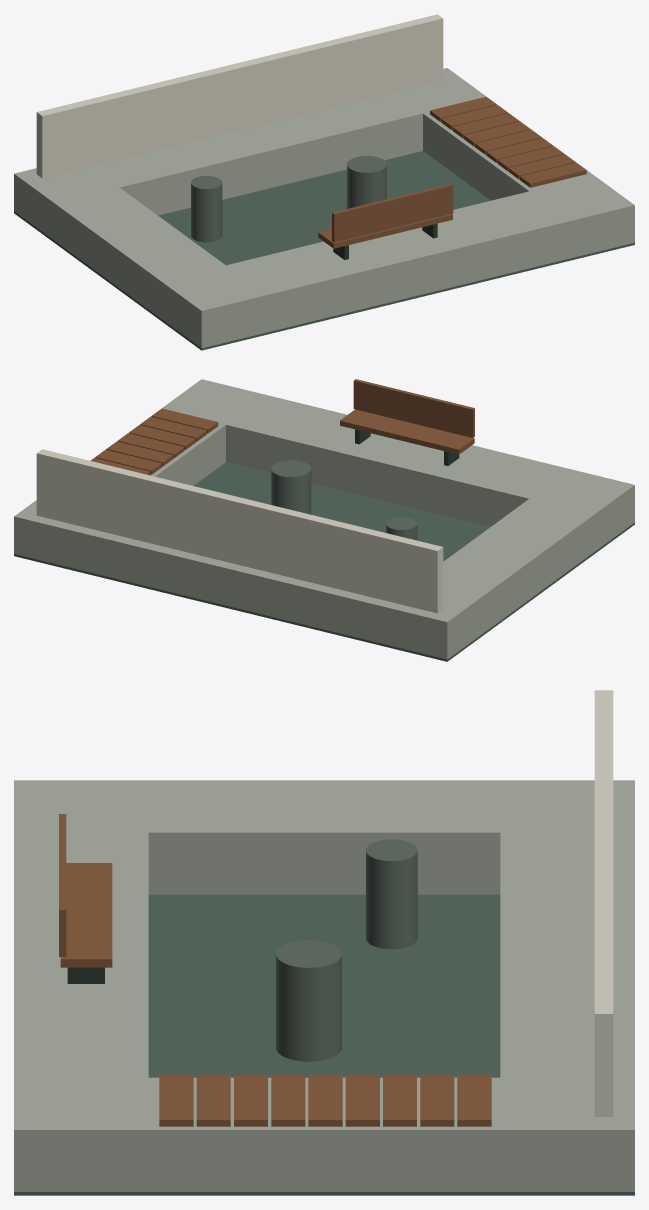
File: binding-example.glb
3 views of the same model, one above another, from view 1: azimuth 30°, elevation 25°; view 2: azimuth 150°, elevation 25°; view 3: azimuth 270°, elevation 25° (orthographic). The views are drawn at different scales.
Visible parts, largest first — view 1: south raised bank, north low wall, north raised bank, symmetric foundation; not scanned, west raised bank, pond floor top=.04, east raised bank, bench back, obstacle 2 radius=.25, obstacle 1 radius=.32, bench seat, east deck board 8 (+8 smaller); view 2: north low wall, south raised bank, north raised bank, west raised bank, symmetric foundation; not scanned, pond floor top=.04, bench back, bench seat, east raised bank, obstacle 1 radius=.32, east deck board 4, east deck board 8 (+5 smaller); view 3: symmetric foundation; not scanned, north raised bank, south raised bank, west raised bank, east raised bank, north low wall, obstacle 1 radius=.32, obstacle 2 radius=.25, bench seat, pond floor top=.04, east deck board 0, east deck board 4 (+8 smaller).
Part boxes in pixels (x1=…): south raised bank: x1=161, y1=175, x2=634, y2=348; north low wall: x1=36, y1=14, x2=443, y2=178; north raised bank: x1=14, y1=68, x2=487, y2=240; symmetric foundation; not scanned: x1=14, y1=151, x2=634, y2=350; west raised bank: x1=54, y1=187, x2=225, y2=318; pond floor top=.04: x1=181, y1=151, x2=489, y2=222; east raised bank: x1=423, y1=98, x2=593, y2=200; bench back: x1=332, y1=183, x2=453, y2=242; obstacle 2 radius=.25: x1=191, y1=176, x2=222, y2=242; obstacle 1 radius=.32: x1=347, y1=156, x2=386, y2=208; bench seat: x1=318, y1=214, x2=452, y2=248; east deck board 8: x1=520, y1=162, x2=586, y2=187; north low wall: x1=36, y1=449, x2=443, y2=613; south raised bank: x1=161, y1=379, x2=634, y2=551; north raised bank: x1=14, y1=500, x2=487, y2=659; west raised bank: x1=443, y1=499, x2=594, y2=629; symmetric foundation; not scanned: x1=14, y1=463, x2=634, y2=661; pond floor top=.04: x1=194, y1=462, x2=490, y2=559; bench back: x1=353, y1=379, x2=474, y2=437; bench seat: x1=340, y1=409, x2=474, y2=454; east raised bank: x1=90, y1=409, x2=225, y2=485; obstacle 1 radius=.32: x1=271, y1=460, x2=311, y2=514; east deck board 4: x1=106, y1=441, x2=173, y2=466; east deck board 8: x1=151, y1=408, x2=218, y2=433; symmetric foundation; not scanned: x1=14, y1=894, x2=634, y2=1195; north raised bank: x1=500, y1=780, x2=634, y2=1191; south raised bank: x1=14, y1=780, x2=148, y2=1191; west raised bank: x1=148, y1=780, x2=500, y2=894; east raised bank: x1=148, y1=1077, x2=500, y2=1191; north low wall: x1=594, y1=690, x2=613, y2=1116; obstacle 1 radius=.32: x1=276, y1=940, x2=341, y2=1061; obstacle 2 radius=.25: x1=366, y1=839, x2=417, y2=949; bench seat: x1=60, y1=863, x2=112, y2=967; pond floor top=.04: x1=148, y1=894, x2=500, y2=1056; east deck board 0: x1=457, y1=1074, x2=491, y2=1126; east deck board 4: x1=308, y1=1074, x2=342, y2=1126.
Size of the model in its own units: 8 by 1.8 by 6.
